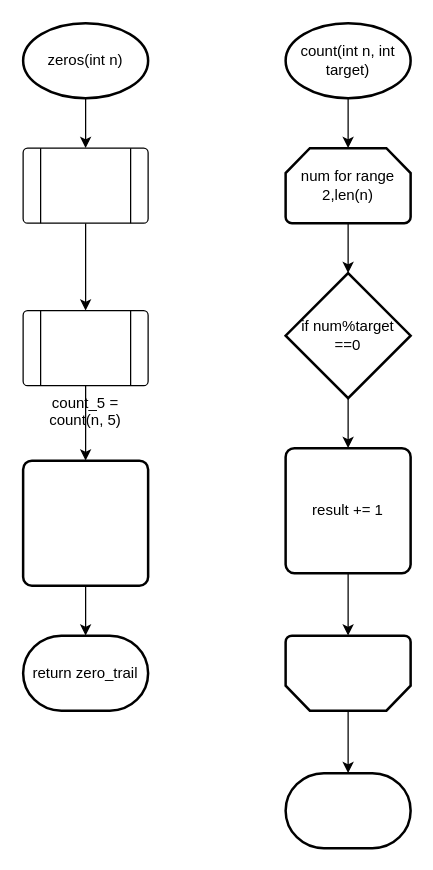
Image size: 433x870. Some labels were removed from this diagram. The shapes that lost their labels are listed below. From the top down, each one's centre as x and y in pixels, then its label:
At point 85,185: "count_2 = count(n, 2)".
At point 85,522: "zero_trail = get min of count_2 and count_5".
At point 347,810: "return result".
